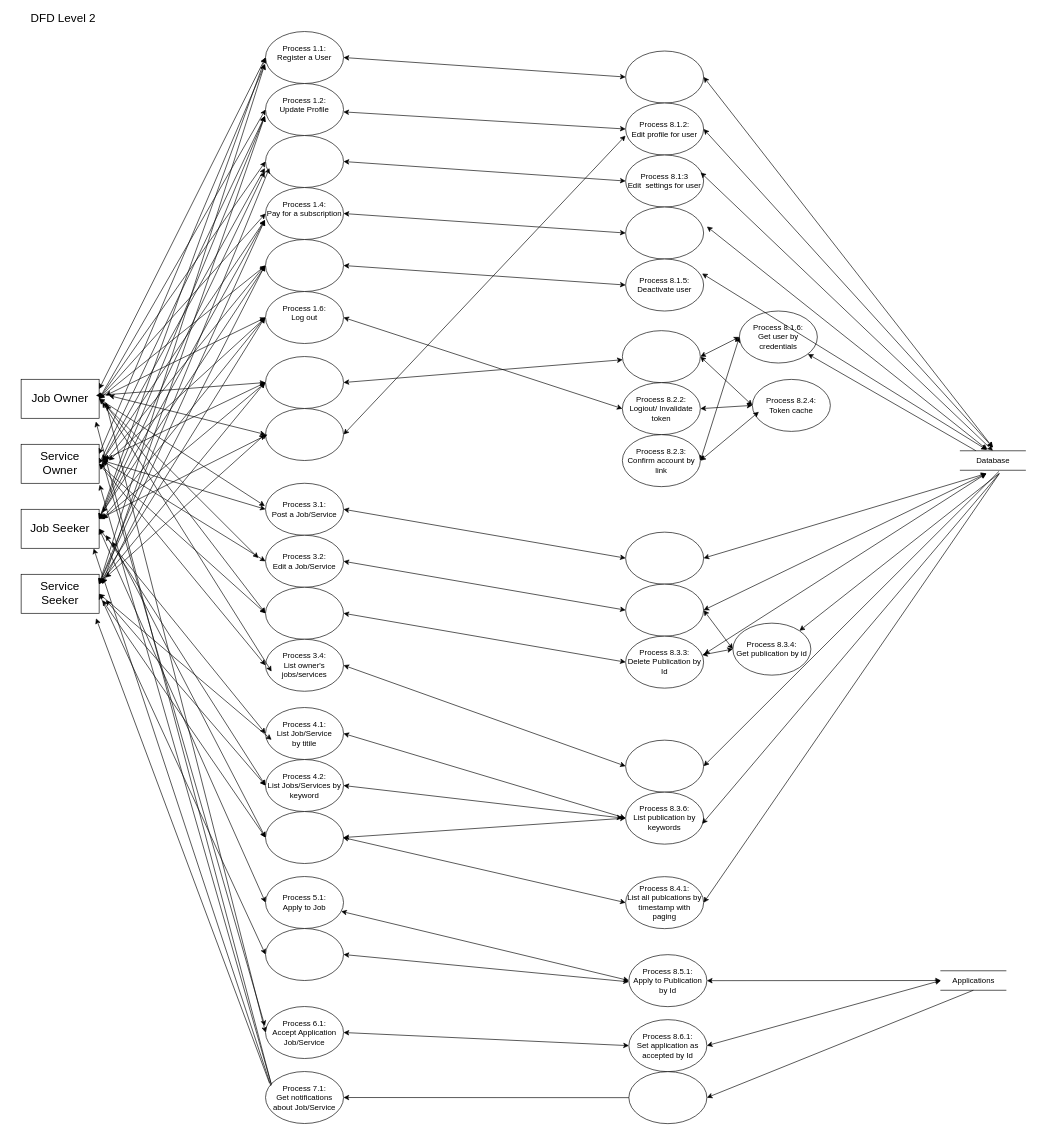
The diagram is 1037 pixels wide and 1135 high, and some of its shapes have lost their labels. Here are the shapes that lost their labels. From the top down, the box of each, then its label:
(625, 50, 704, 103): Process 8.1.1: Register as a new user
(265, 135, 344, 188): Process 1.3: Configure settings
(625, 206, 704, 259): Process 8.1.4: Edit subscription for user
(265, 239, 344, 292): Process 1.5: Quit application
(622, 330, 700, 383): Process 8.2.1: Login/send token
(265, 356, 344, 409): Process 2.1: Log in
(265, 408, 344, 461): Process 2.2: Password reset
(625, 532, 704, 584): Process 8.3.1: Create a new Publication
(265, 587, 344, 639): Process 3.3: Delete a Job Service
(625, 584, 704, 636): Process 8.3.2: Edit Publication by Id
(625, 740, 704, 792): Process 8.3.5: List publications by owner
(265, 811, 344, 864): Process 4.3: List Jobs/Services by date
(265, 928, 344, 981): Process 5.2: Apply to a Service
(628, 1071, 707, 1124): Process 8.7.2: Retrieve acceptance on database change
